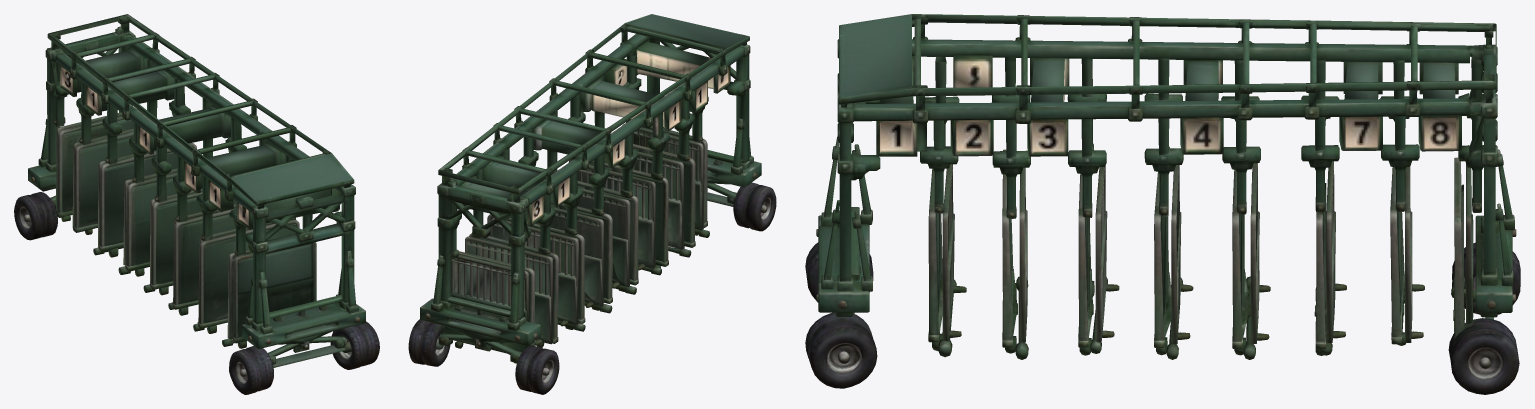
File: starting_gate.glb
3 renders of one model, left to right at view 1: azimuth 30°, elevation 25°; view 2: azimuth 150°, elevation 25°; view 3: azimuth 270°, elevation 25°, orthographic. The views are drawn at different scales.
Visible parts, largest first — view 1: tripo_node_57cebacd-9aa1-41c4-9c46-190f386ec90f; view 2: tripo_node_57cebacd-9aa1-41c4-9c46-190f386ec90f; view 3: tripo_node_57cebacd-9aa1-41c4-9c46-190f386ec90f.
Part boxes in pixels (x1,y1,x2,y2): tripo_node_57cebacd-9aa1-41c4-9c46-190f386ec90f: (14,14,379,394); tripo_node_57cebacd-9aa1-41c4-9c46-190f386ec90f: (408,14,776,394); tripo_node_57cebacd-9aa1-41c4-9c46-190f386ec90f: (805,14,1520,394).
Bounding box in the file's own units: 0.3237 × 0.4595 × 0.9995.
Materials: 1 (1 with a texture image).
